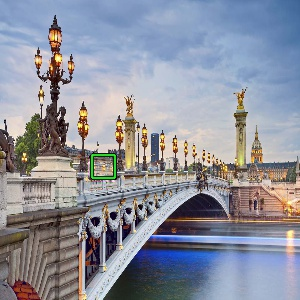square: (89, 153, 118, 180)
